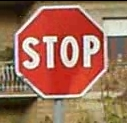stop: (13, 4, 108, 99)
